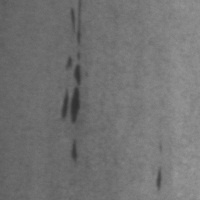inclusion: (64, 1, 84, 85), (59, 83, 85, 128), (153, 163, 167, 195), (69, 139, 80, 166)
